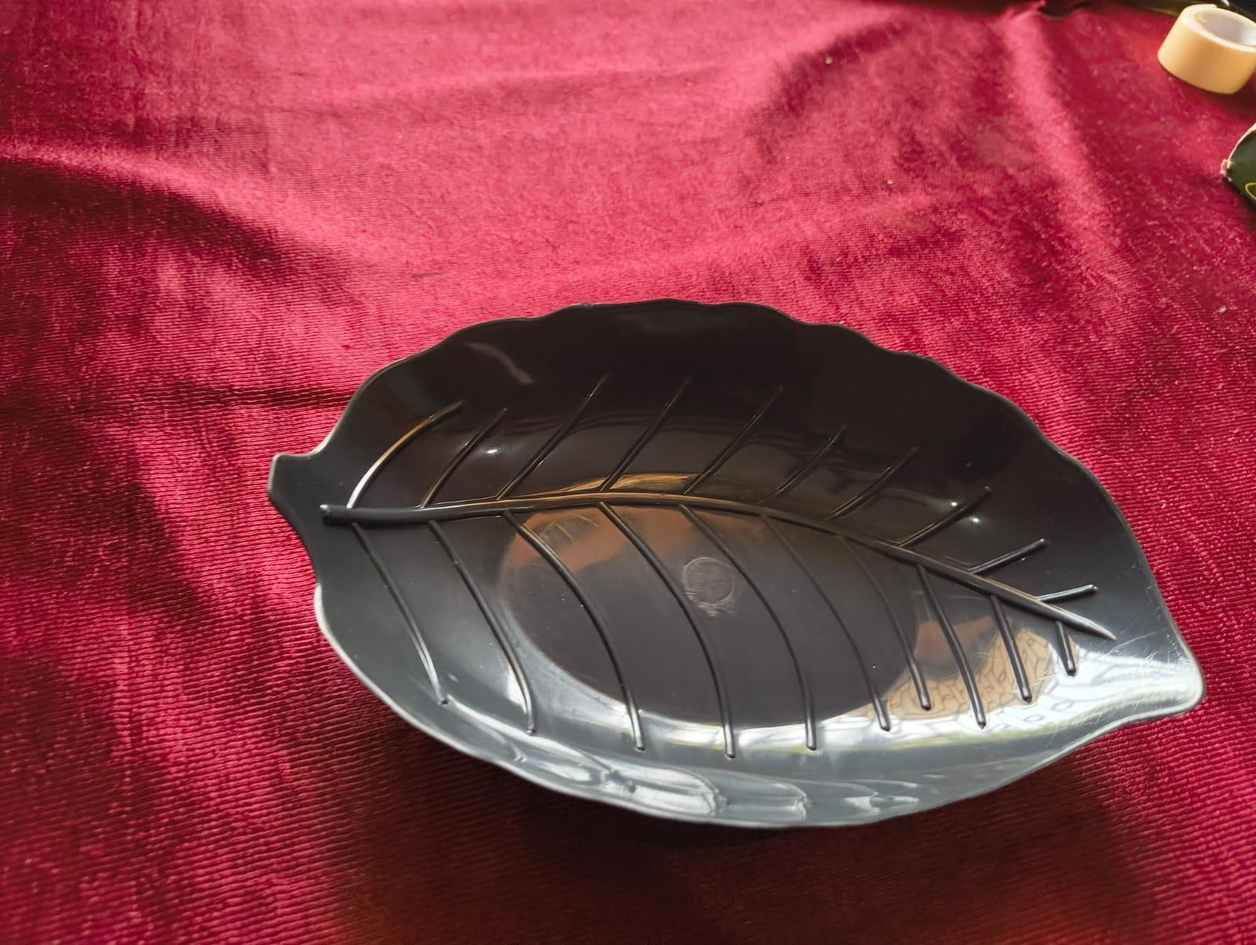plate: (262, 274, 1209, 854)
